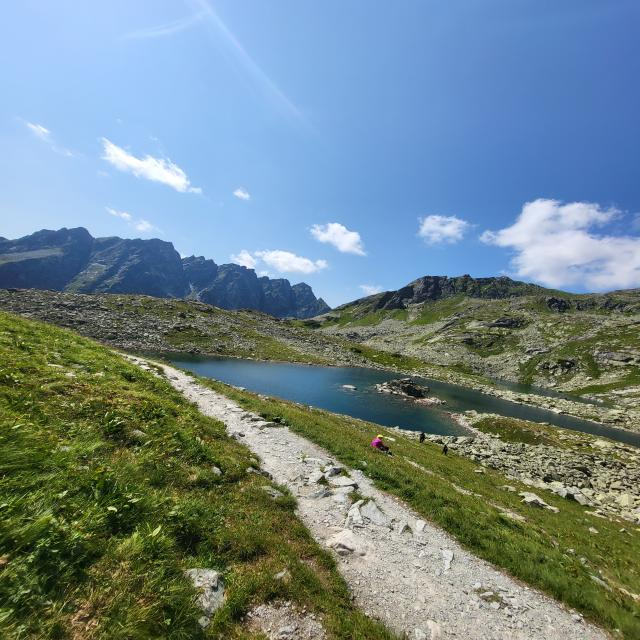Hreben Bast: (4, 184, 160, 277)
Satanovo sedlo: (138, 222, 322, 308)
